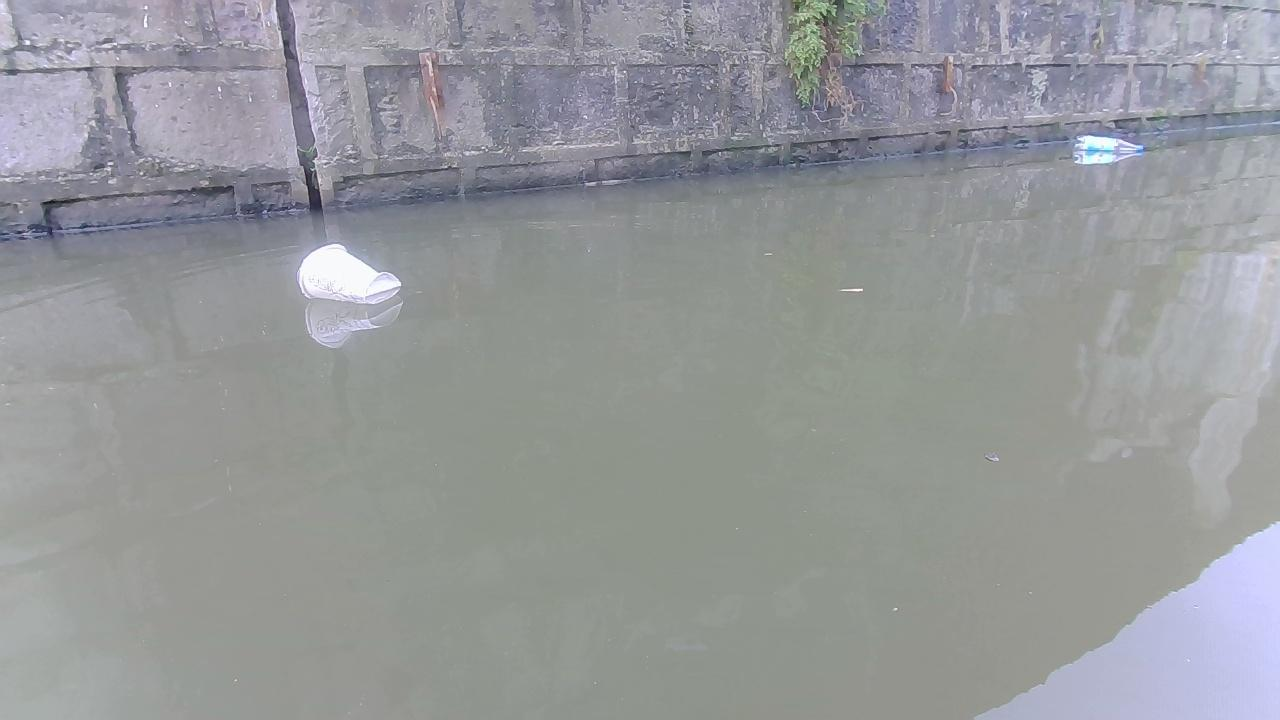bottle: (292, 242, 403, 302), (1072, 134, 1144, 153)
